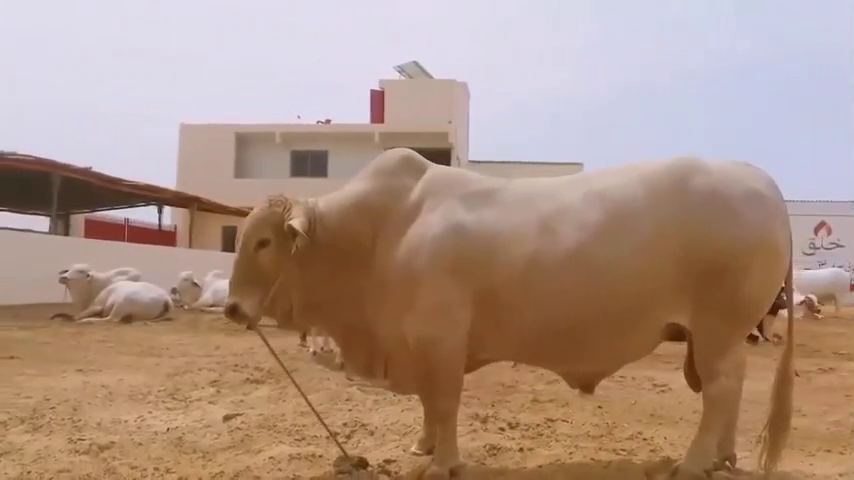bo: (206, 131, 801, 476), (77, 275, 176, 329), (779, 246, 846, 312), (157, 250, 225, 315), (57, 254, 141, 297), (776, 286, 822, 318)
